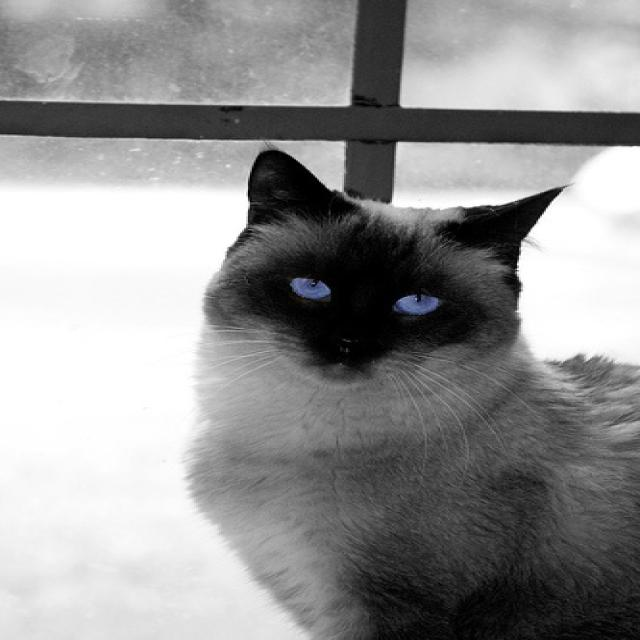cat: (177, 144, 638, 638)
